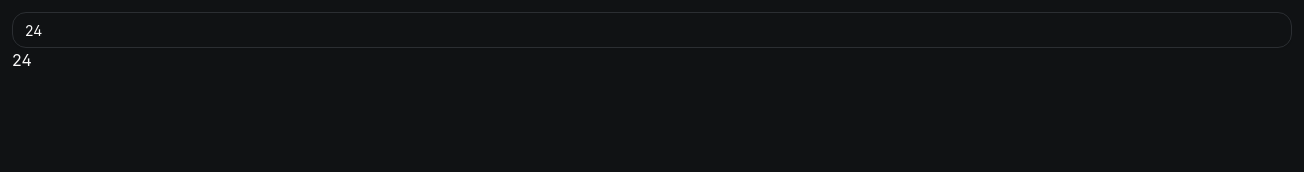
IntegerInput — dia do cartão (1..31) › vazio no blur cai no fallback do campo
Clear the field named "campo" at (652, 30), box [12, 12, 1292, 48]
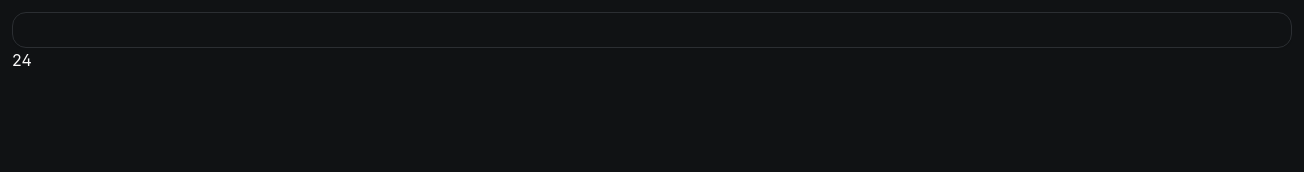
Leave the field named "campo", box [12, 12, 1292, 48]
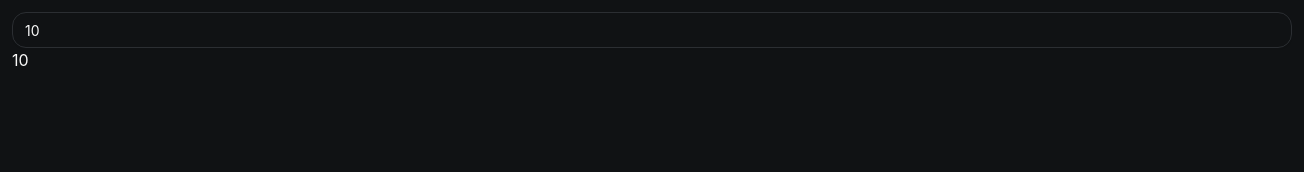
expect the field named "campo" holds "10": met, box [12, 12, 1292, 48]
